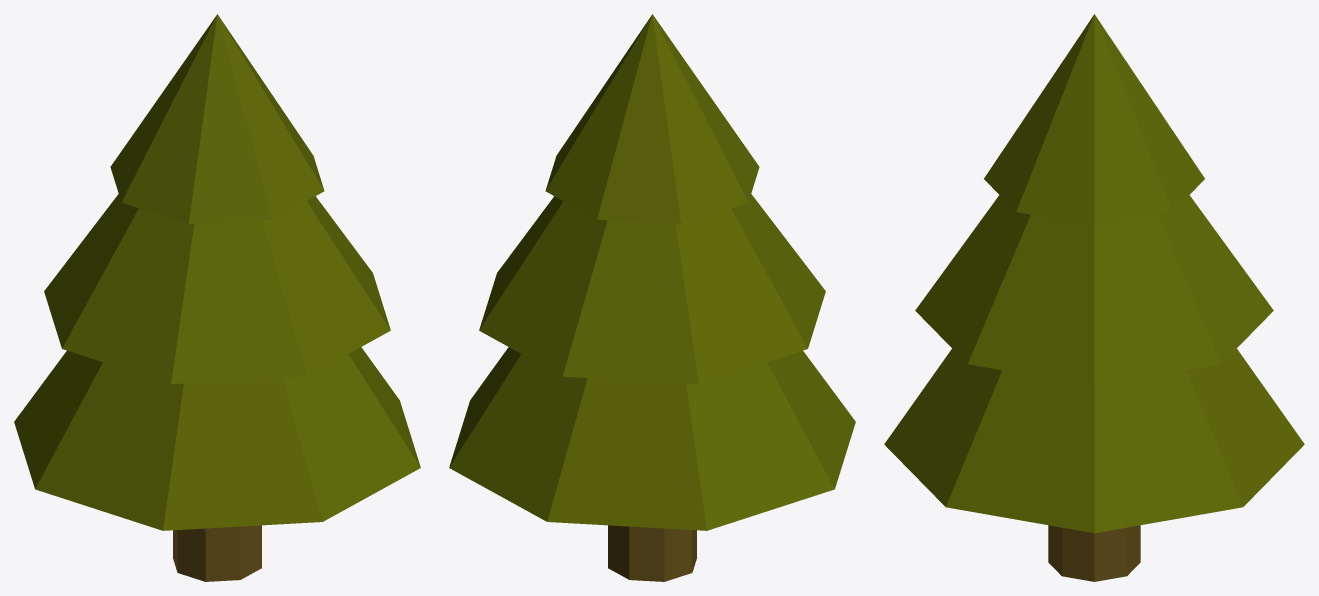
The model's file is Tree.fbx.
3 renders of one model, left to right at view 1: azimuth 30°, elevation 25°; view 2: azimuth 150°, elevation 25°; view 3: azimuth 270°, elevation 25°, orthographic.
Parts seen in each view (by area): view 1: Cylinder; view 2: Cylinder; view 3: Cylinder.
Boxes of the visible parts, left/top/right/bottom form: Cylinder: left=14, top=14, right=420, bottom=581; Cylinder: left=449, top=14, right=855, bottom=581; Cylinder: left=884, top=14, right=1304, bottom=581.
Size of the model in its own units: 137 by 197 by 137.
